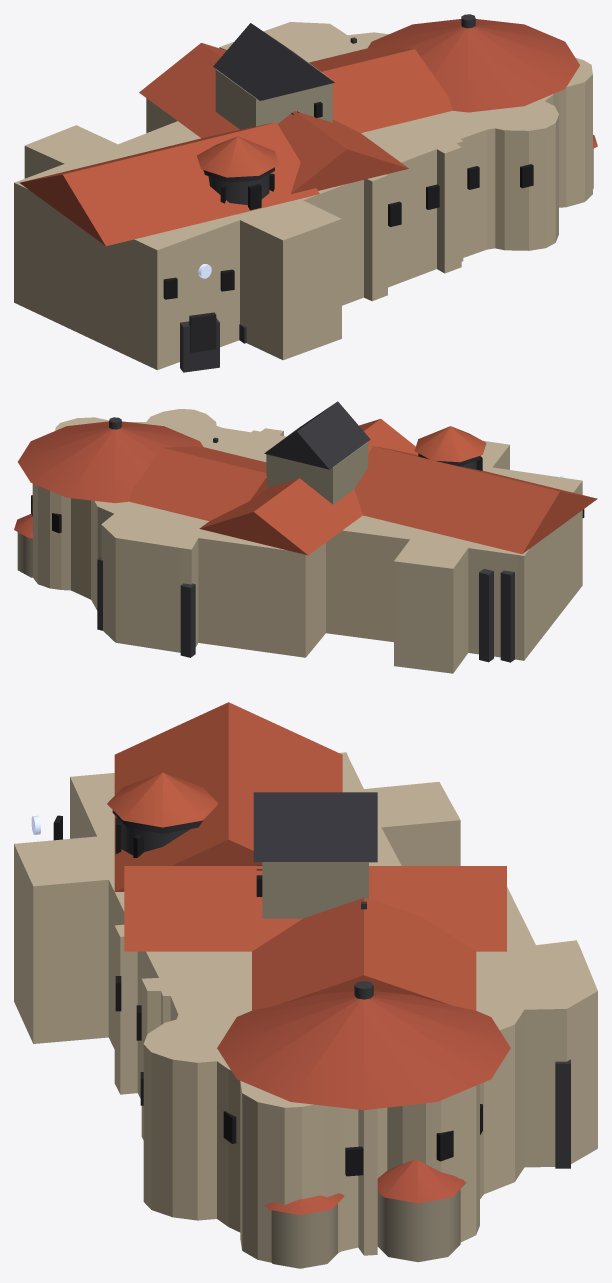
The model's file is nouveau-lieu.glb.
The picture shows the model from 3 angles, top to bottom: view 1: azimuth 30°, elevation 25°; view 2: azimuth 150°, elevation 25°; view 3: azimuth 270°, elevation 25°; orthographic projection. The views are drawn at different scales.
Parts seen in each view (by area): view 1: Église Notre-Dame de l'Assomption, Chamalières; view 2: Église Notre-Dame de l'Assomption, Chamalières; view 3: Église Notre-Dame de l'Assomption, Chamalières.
Boxes of the visible parts, x1=… form: Église Notre-Dame de l'Assomption, Chamalières: x1=14, y1=14, x2=597, y2=372; Église Notre-Dame de l'Assomption, Chamalières: x1=14, y1=401, x2=597, y2=673; Église Notre-Dame de l'Assomption, Chamalières: x1=14, y1=702, x2=597, y2=1268.
Bounding box in the file's own units: 44.2 × 15.8 × 30.2.
